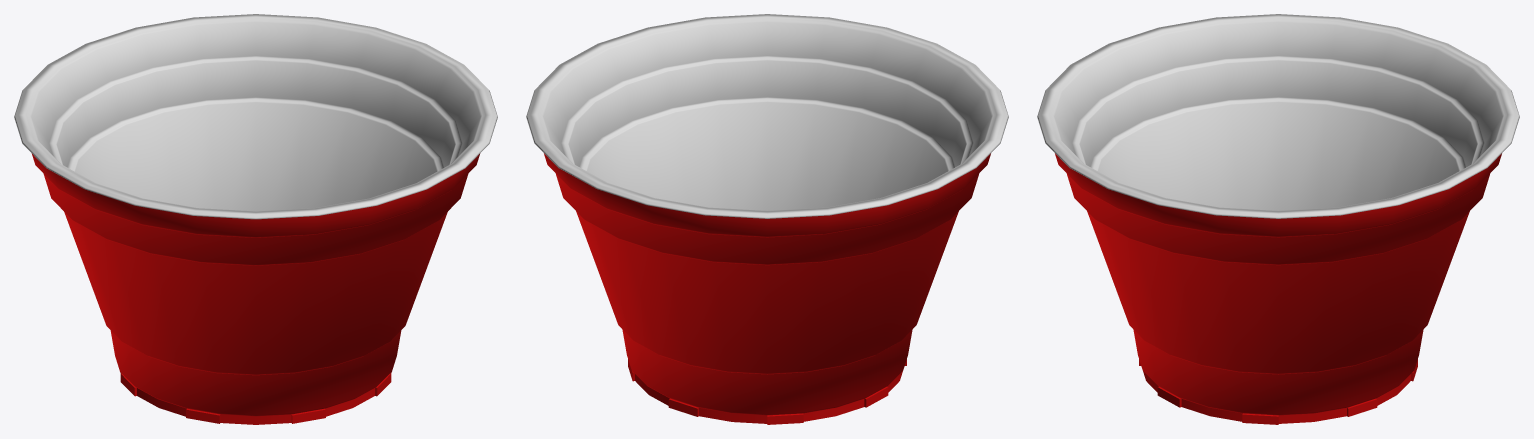
The model's file is Cup_Solo.fbx.
3 renders of one model, left to right at view 1: azimuth 30°, elevation 25°; view 2: azimuth 150°, elevation 25°; view 3: azimuth 270°, elevation 25°, orthographic.
Visible parts, largest first — view 1: Cup; view 2: Cup; view 3: Cup.
Boxes of the visible parts, x1,y1,x2,y2 form: Cup: [14, 14, 497, 424]; Cup: [526, 14, 1008, 424]; Cup: [1037, 14, 1519, 424].
Size of the model in its own units: 15.49 by 8.89 by 15.49.
1 material, 1 textured.
